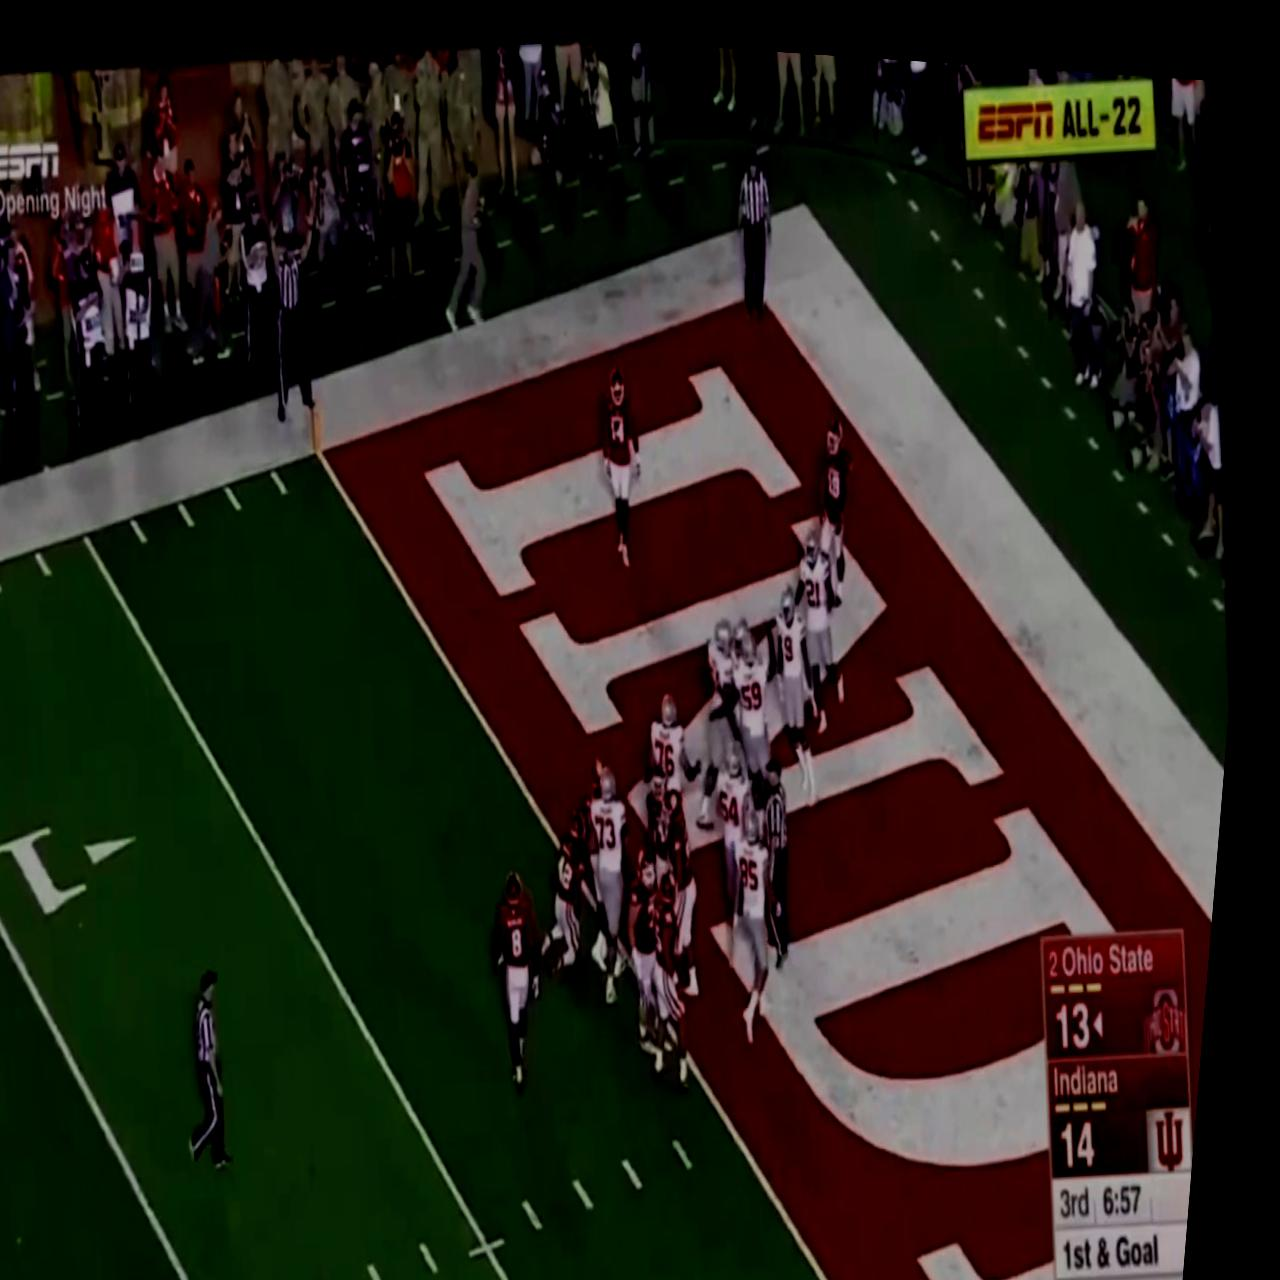10R: (0, 808, 164, 967)
